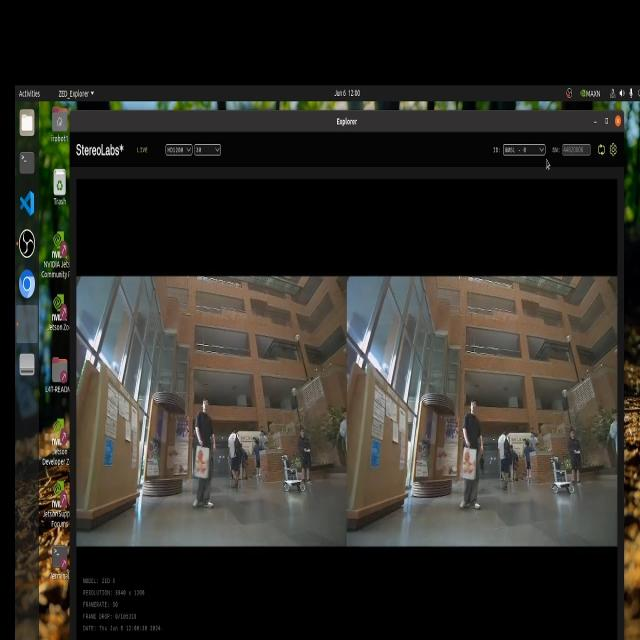red: (461, 446, 481, 486), (194, 443, 210, 473)
